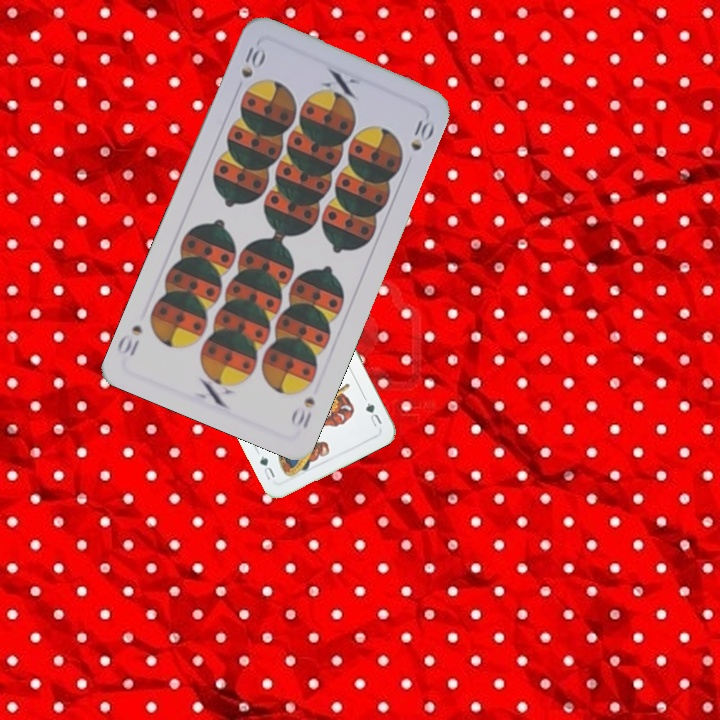GU: (362, 398, 385, 430)
S10: (237, 42, 268, 81), (287, 393, 318, 431)
